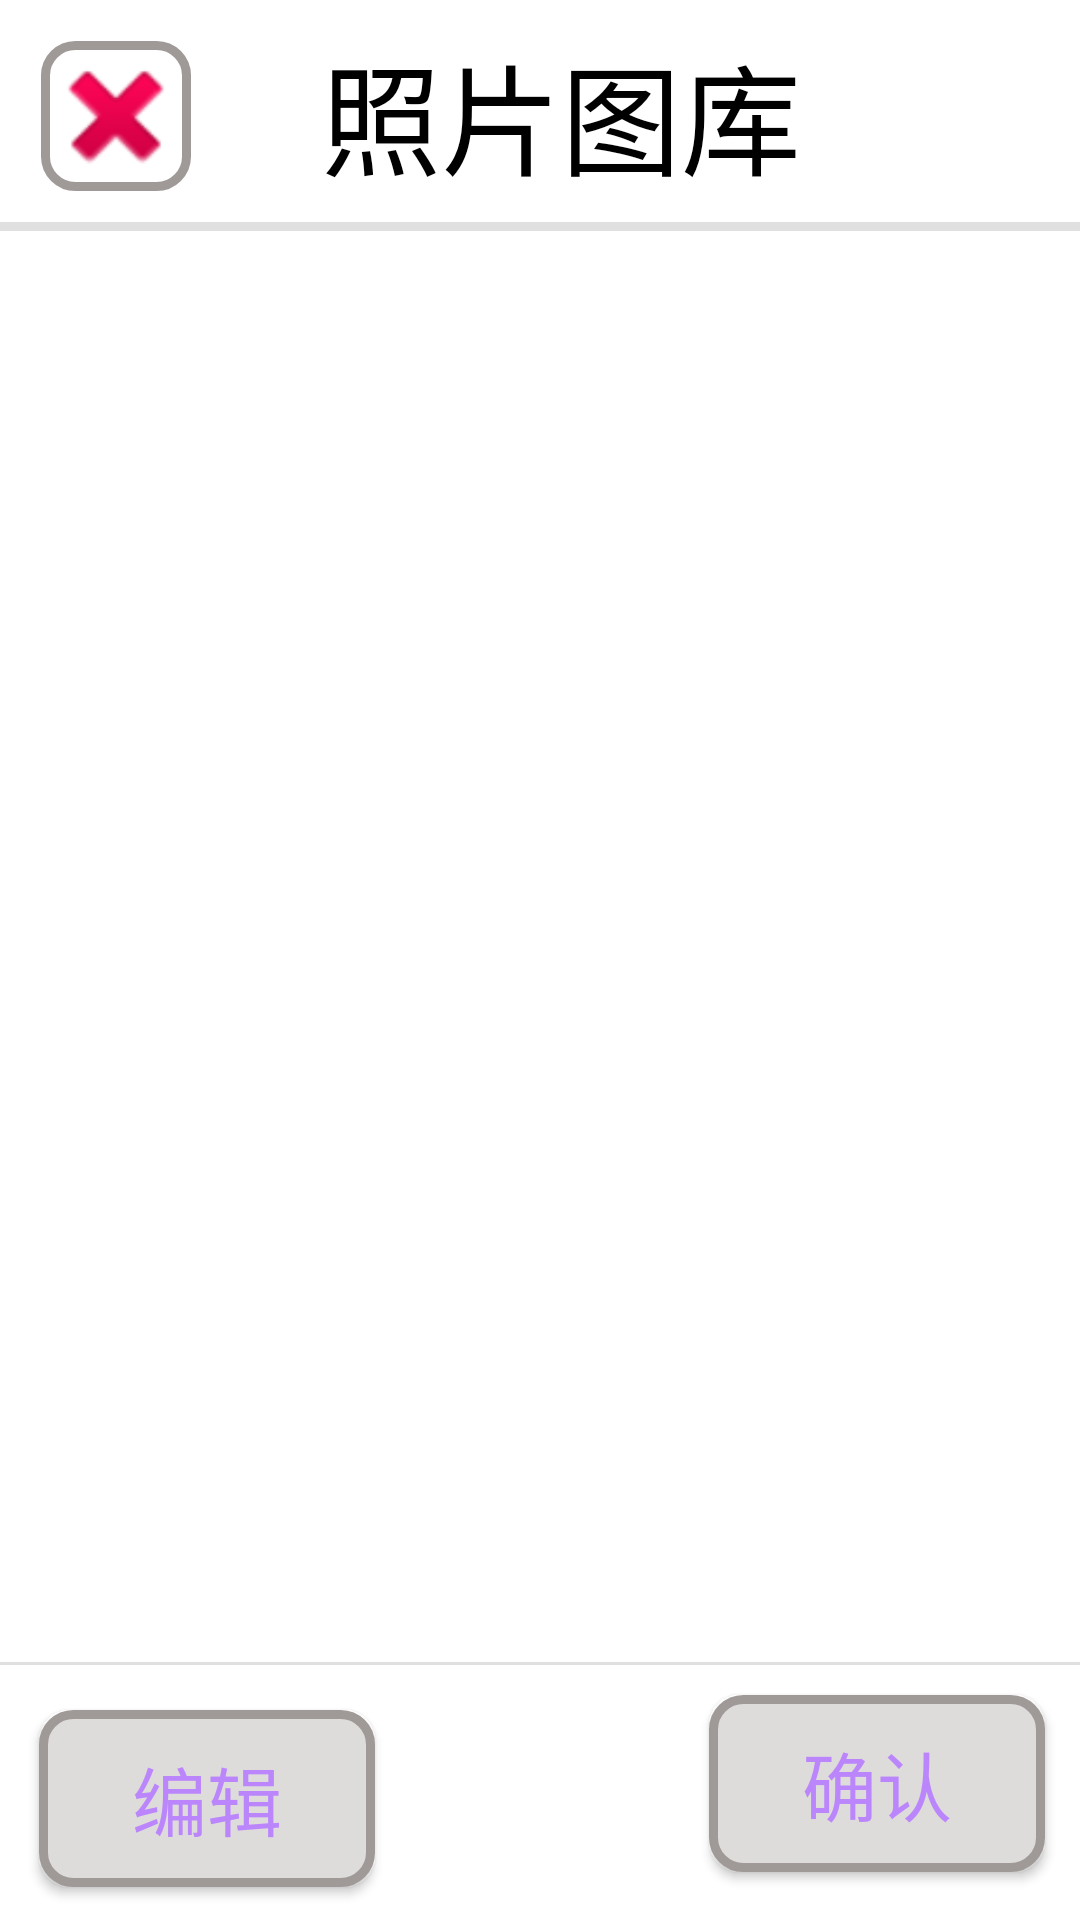

Icons on this 1080×1920 Android screen, each with the point to tap as point (x, y):
delete: point (116, 116)
